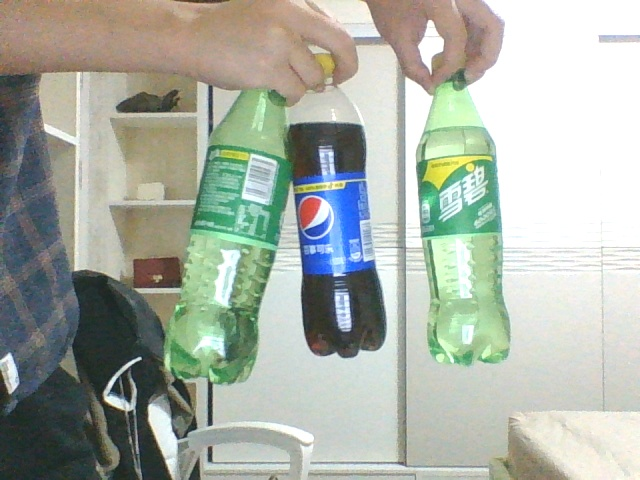Cola: (289, 52, 387, 358)
Sprite: (162, 88, 290, 384), (416, 51, 511, 364)
